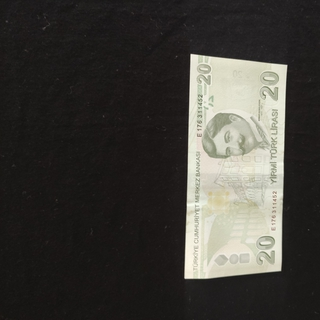20TLBack: (183, 53, 287, 280)
